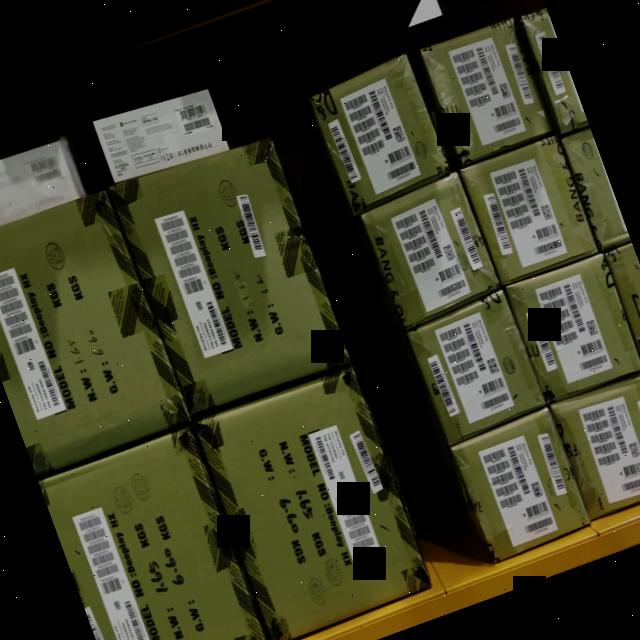box: (108, 129, 351, 424), (193, 364, 434, 640), (0, 183, 190, 474), (35, 417, 270, 640), (448, 406, 594, 562), (504, 248, 640, 411), (310, 60, 452, 214), (461, 132, 602, 285), (421, 13, 557, 168), (406, 294, 548, 442), (358, 176, 501, 322), (552, 372, 640, 518)
